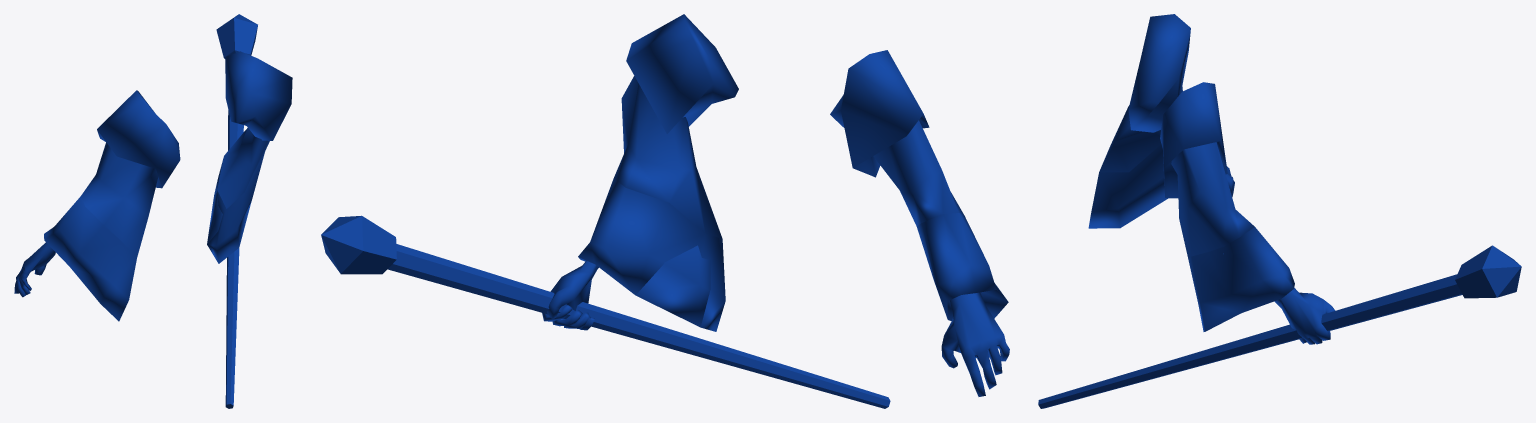
File: arm_000066.obj
3 views of the same model, side by side, from view 1: azimuth 30°, elevation 25°; view 2: azimuth 150°, elevation 25°; view 3: azimuth 270°, elevation 25° (orthographic). The views are drawn at different scales.
Visible parts, largest first — view 1: Wizard_Plane.002; view 2: Wizard_Plane.002; view 3: Wizard_Plane.002.
Part boxes in pixels (bbox=[...]): Wizard_Plane.002: bbox=[14, 14, 292, 408]; Wizard_Plane.002: bbox=[321, 14, 1009, 408]; Wizard_Plane.002: bbox=[1038, 14, 1521, 408].
Size of the model in its own units: 1.44 by 1.15 by 1.35.
